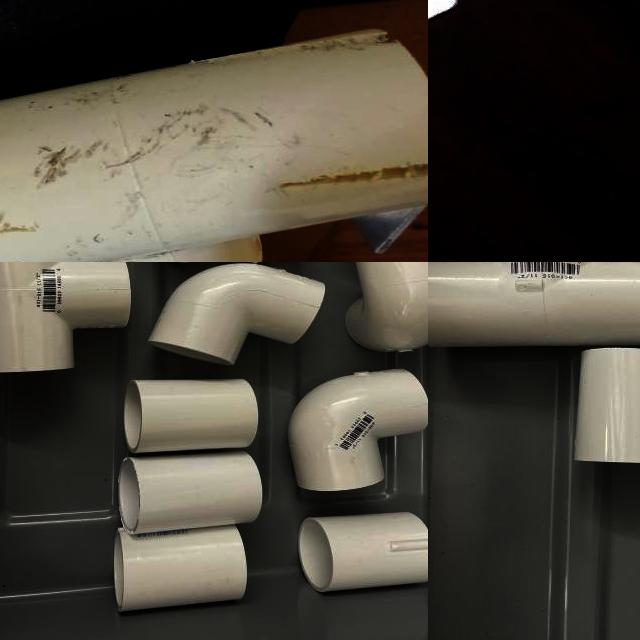Defective: (272, 164, 428, 254), (291, 33, 403, 57)
L Joint: (148, 265, 327, 368), (287, 369, 428, 495), (344, 262, 428, 355)
T Joint: (0, 29, 428, 262), (428, 262, 640, 351)
